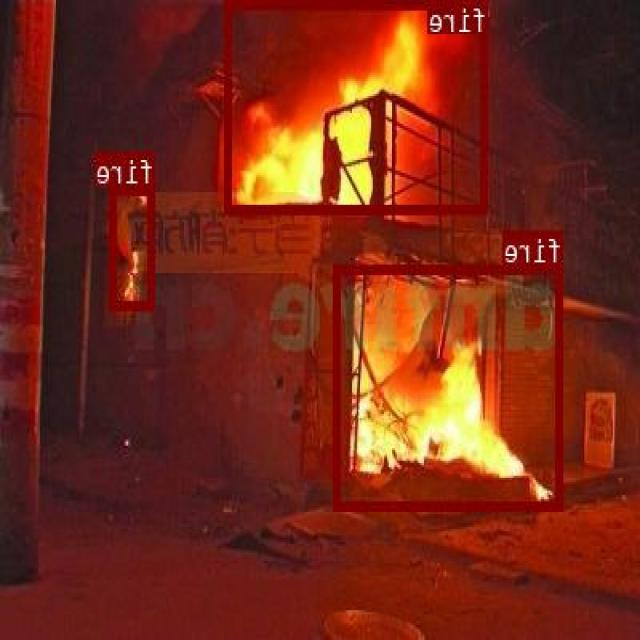fire: (336, 264, 564, 508), (227, 0, 490, 211), (111, 184, 155, 308)
